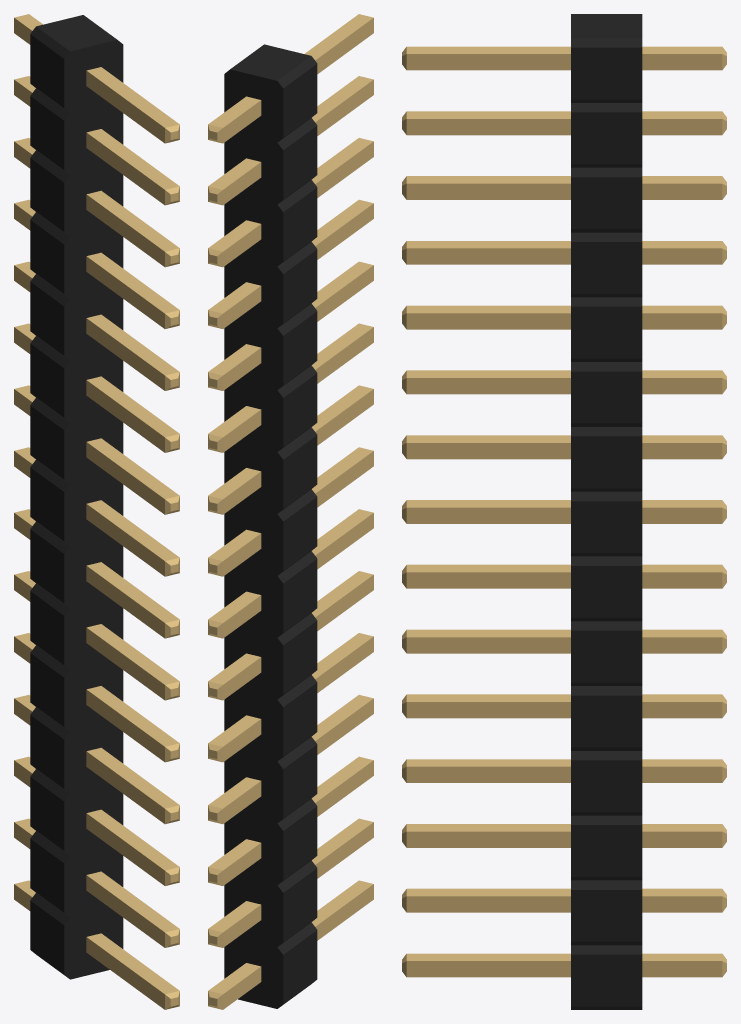
Rendered from PinHeader_1x15_P2.54mm_Vertical.glb.
3 renders of one model, left to right at view 1: azimuth 30°, elevation 25°; view 2: azimuth 150°, elevation 25°; view 3: azimuth 270°, elevation 25°, orthographic. The views are drawn at different scales.
Parts seen in each view (by area): view 1: PinHeader_1x15_P254mm_Vertical; view 2: PinHeader_1x15_P254mm_Vertical; view 3: PinHeader_1x15_P254mm_Vertical.
Part boxes in pixels (x1=…): PinHeader_1x15_P254mm_Vertical: x1=14, y1=14, x2=179, y2=1009; PinHeader_1x15_P254mm_Vertical: x1=208, y1=14, x2=373, y2=1009; PinHeader_1x15_P254mm_Vertical: x1=402, y1=14, x2=726, y2=1009.
Bounding box in the file's own units: 0.00254 × 0.0381 × 0.0115.
